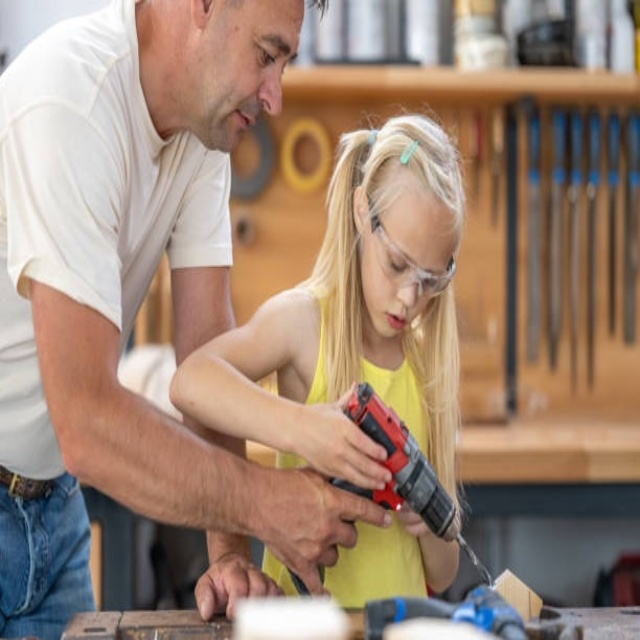Gafas: (368, 199, 456, 299)
Sin_gafas: (212, 25, 303, 82)
Sin_guantes: (266, 458, 394, 605), (303, 373, 391, 491), (192, 544, 293, 623)
Sin_mascara: (211, 91, 262, 152), (376, 301, 415, 344)
